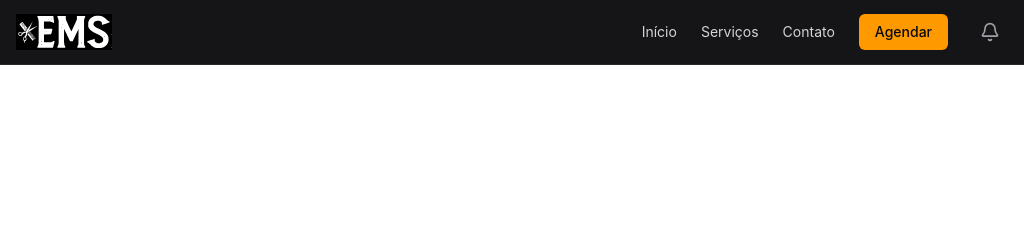
Test: PublicHeader › when logged in shows notifications button and logout in dropdown
Click the button named "Notificações": (990, 32) [972,14,1008,50]
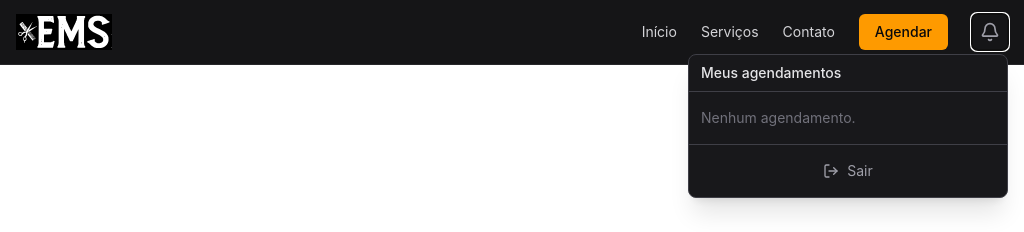
expect the text "Meus agendamentos" is shown: met, box [689,63,1007,92]
expect the button "Sair" is shown: met, box [701,153,995,189]
